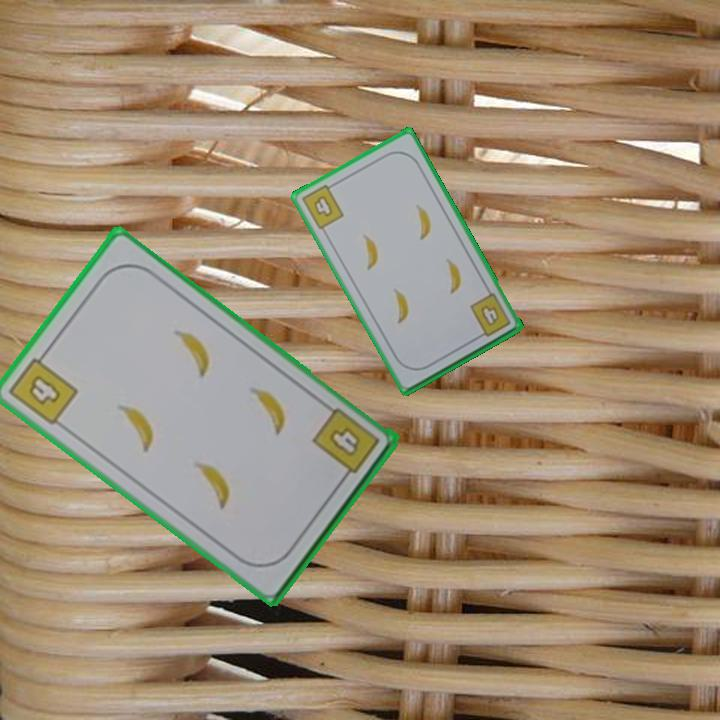4b: (5, 346, 81, 428), (308, 404, 383, 485), (298, 179, 347, 232), (466, 289, 514, 341)
